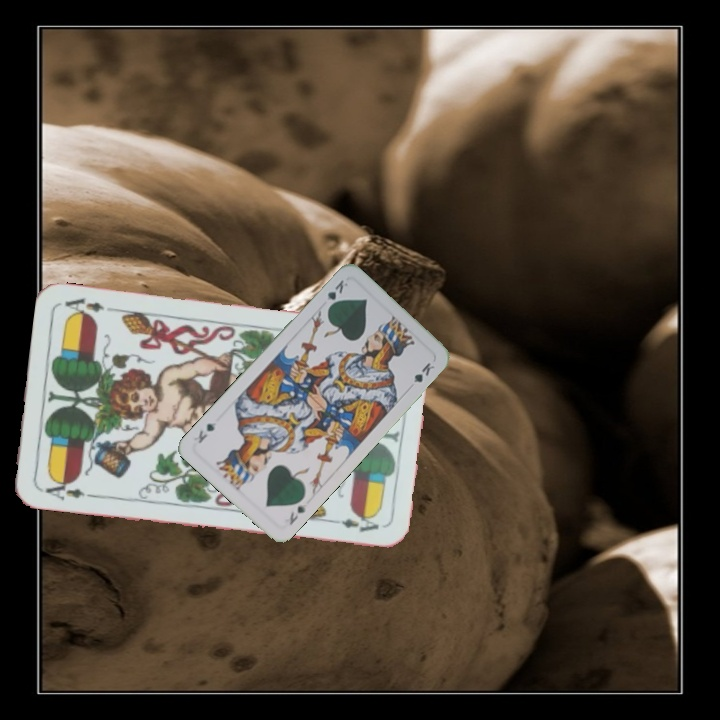EA: (37, 475, 96, 503)
GK: (321, 275, 351, 312), (285, 499, 309, 527)
